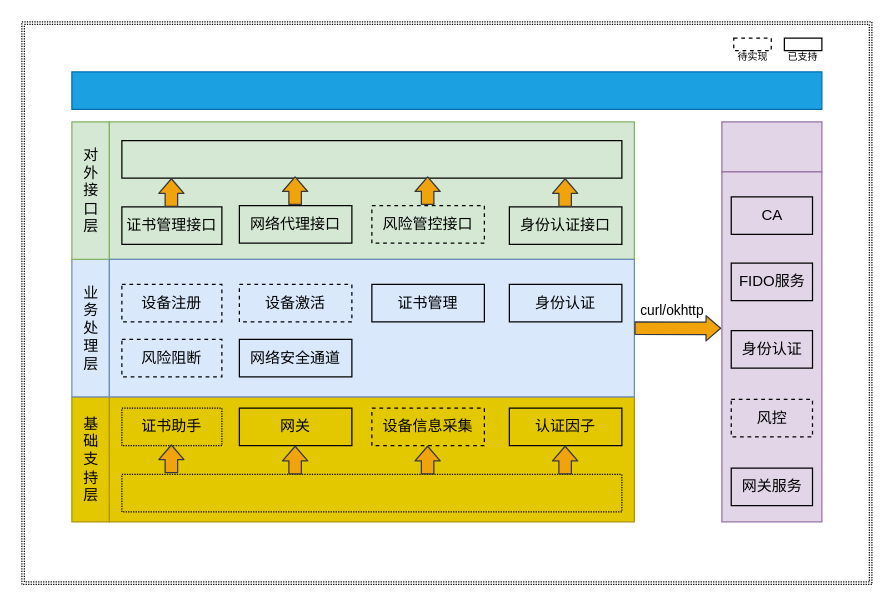
Image size: 894x606. Some labels were removed from this diagram. Each missing label, with the centre of its shape:
"KZTSdk" belongs at (x=446, y=90).
"安全沙箱" belongs at (x=371, y=492).
"服务平台" belongs at (x=771, y=146).
"零信任认证接口" belongs at (x=371, y=158).
